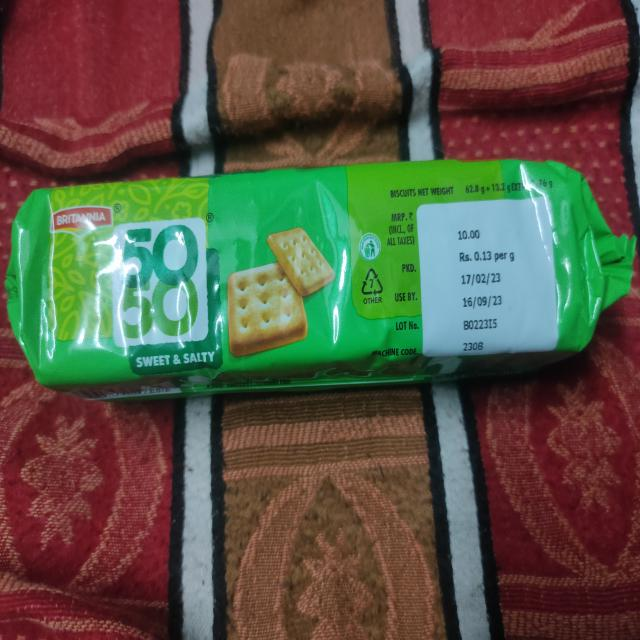50 50 biscuit: (10, 159, 638, 390)
